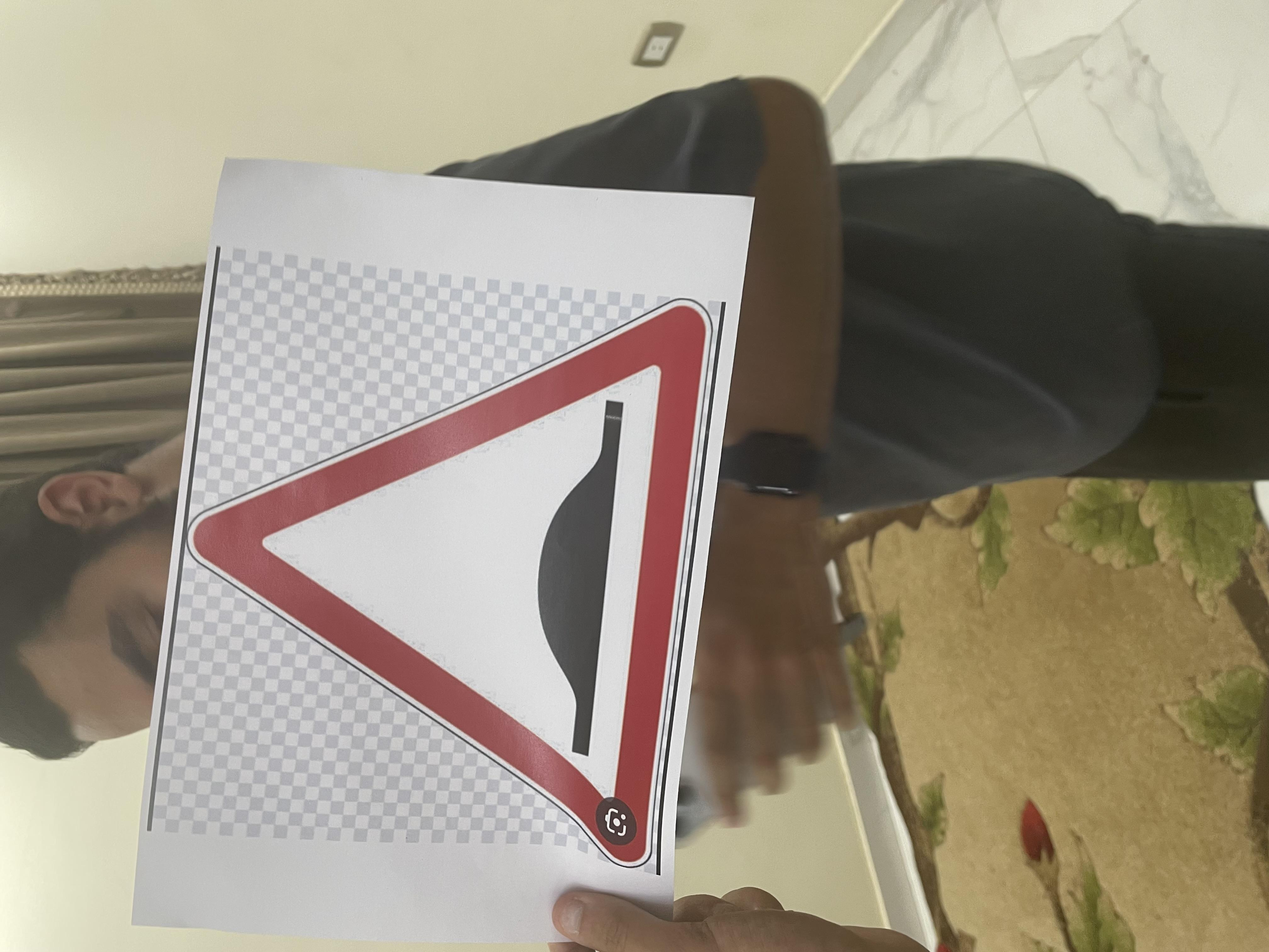Hump: (116, 145, 890, 536)
